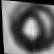correct: (6, 0, 54, 54)
